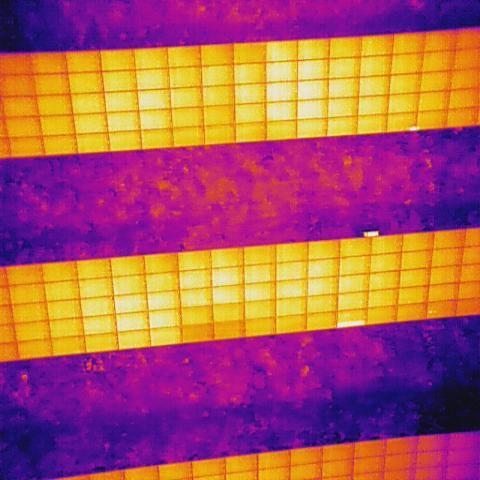fault: (336, 320, 365, 328), (408, 124, 420, 131)
